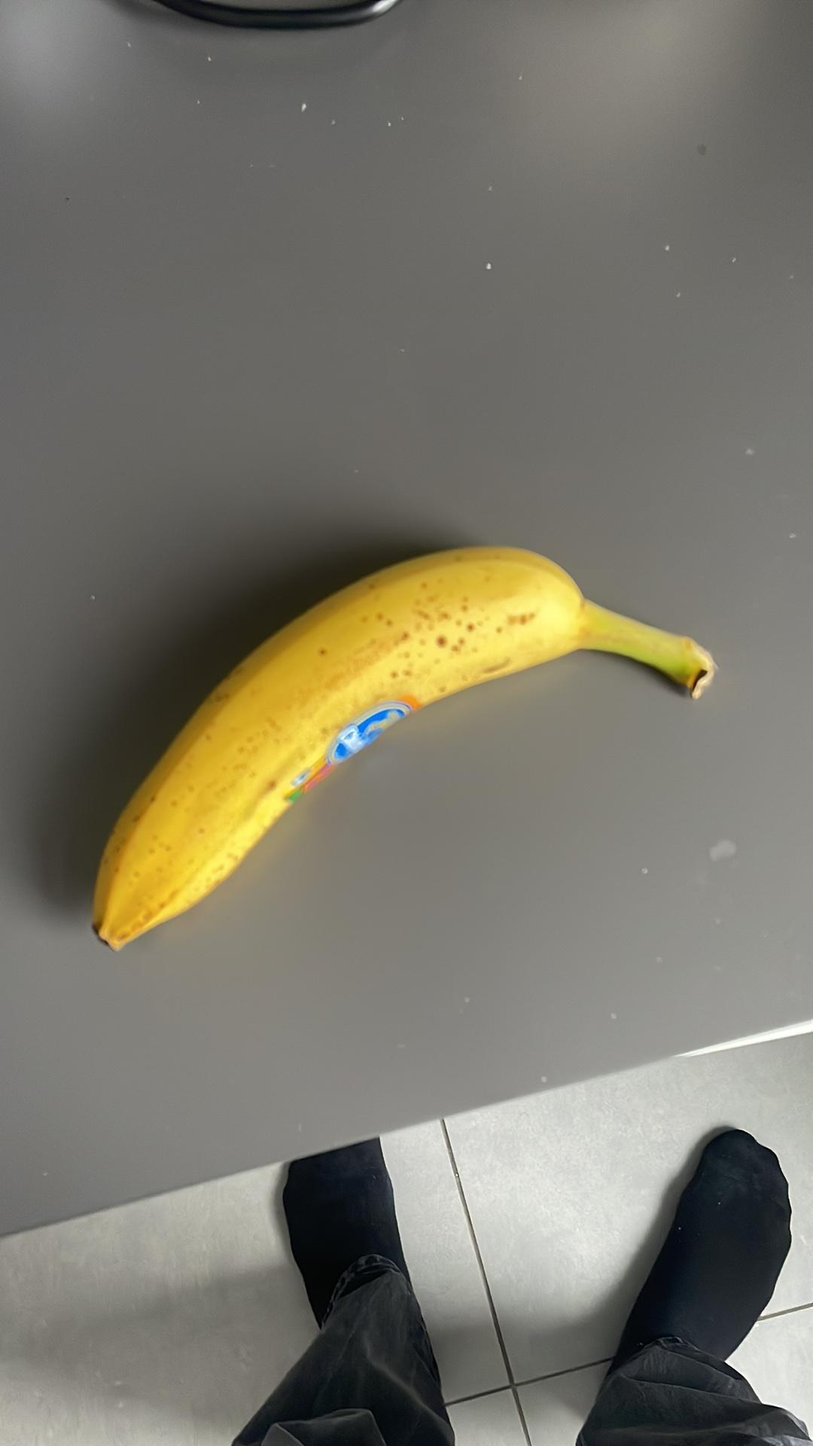banana: (81, 542, 712, 966)
